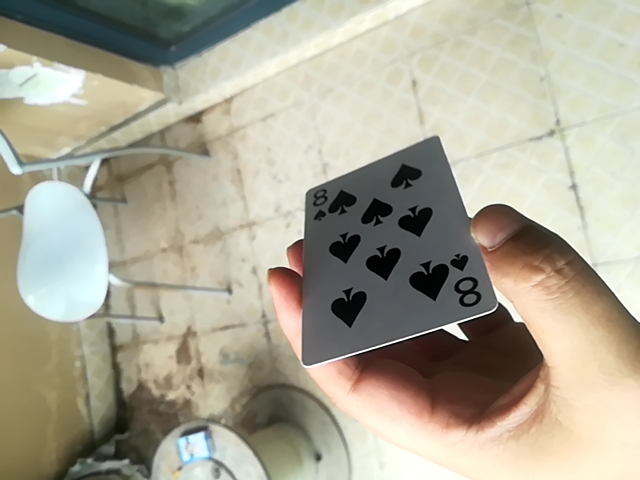ht 8: (304, 131, 541, 363)
